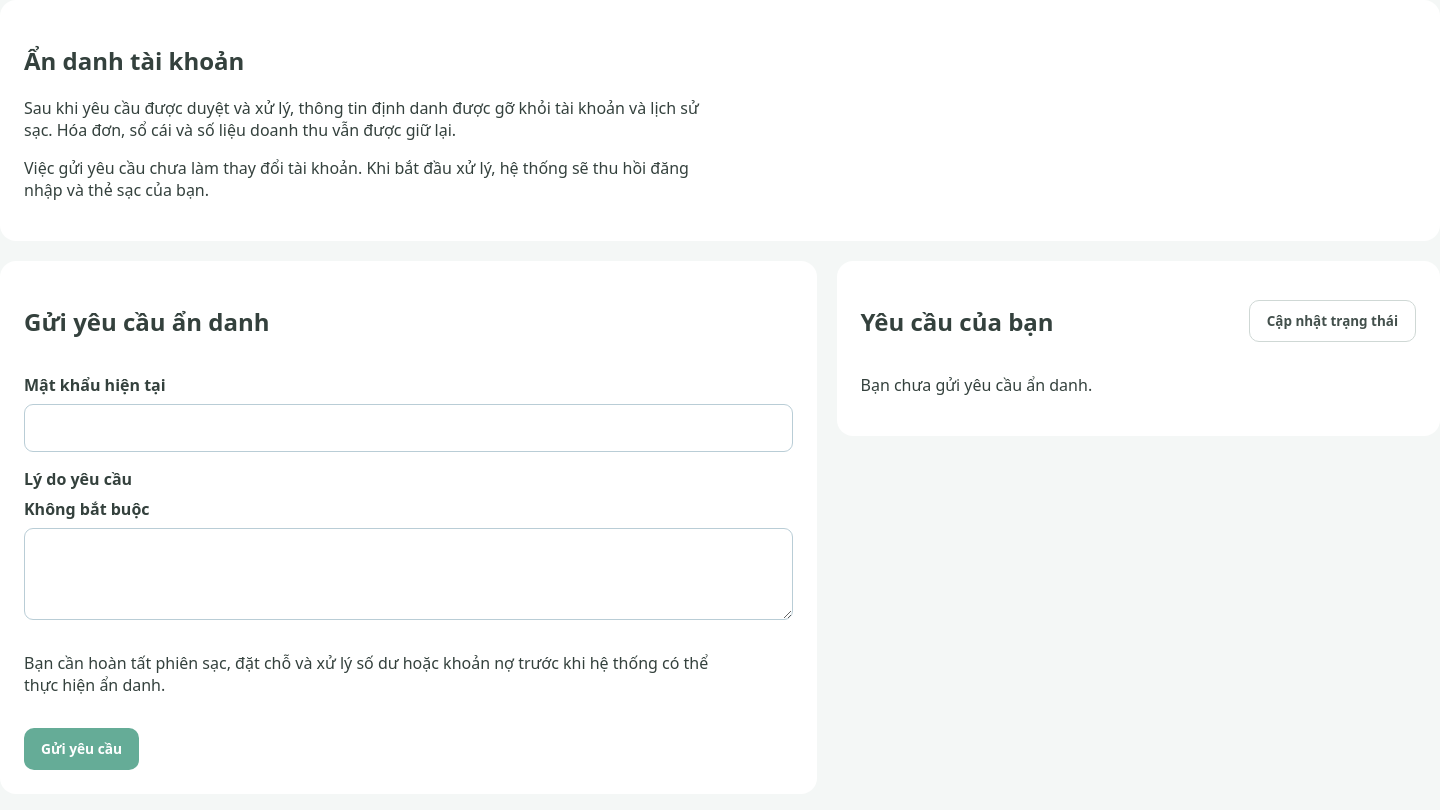
Test: submits reauthentication, shows a receipt and clears the password
Type "reauth-password" into the password field labelled "Mật khẩu hiện tại". click: (408, 428)
box: top-left (24, 404), bottom-right (792, 452)
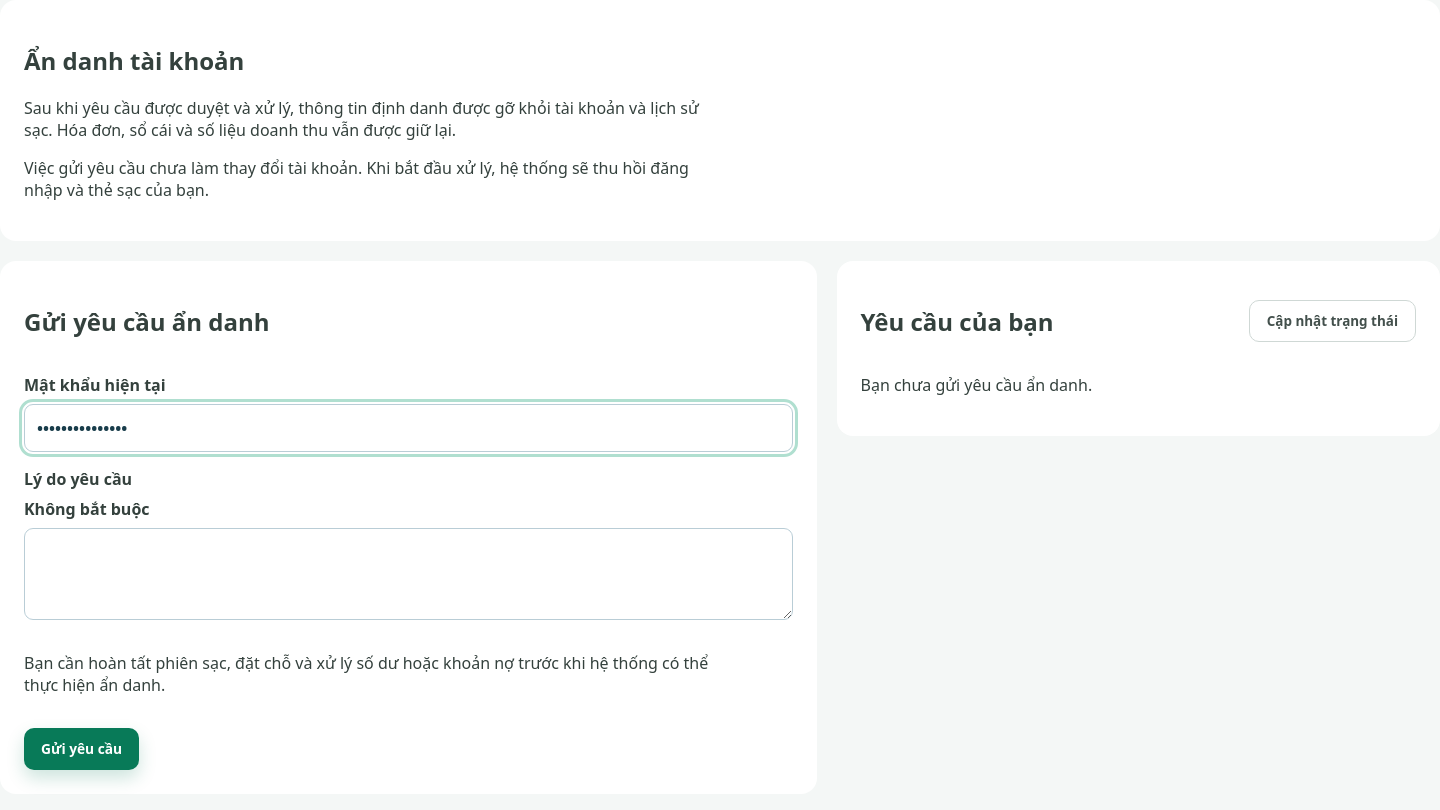
Click the button "Gửi yêu cầu". click: (82, 749)
box: top-left (24, 728), bottom-right (139, 770)
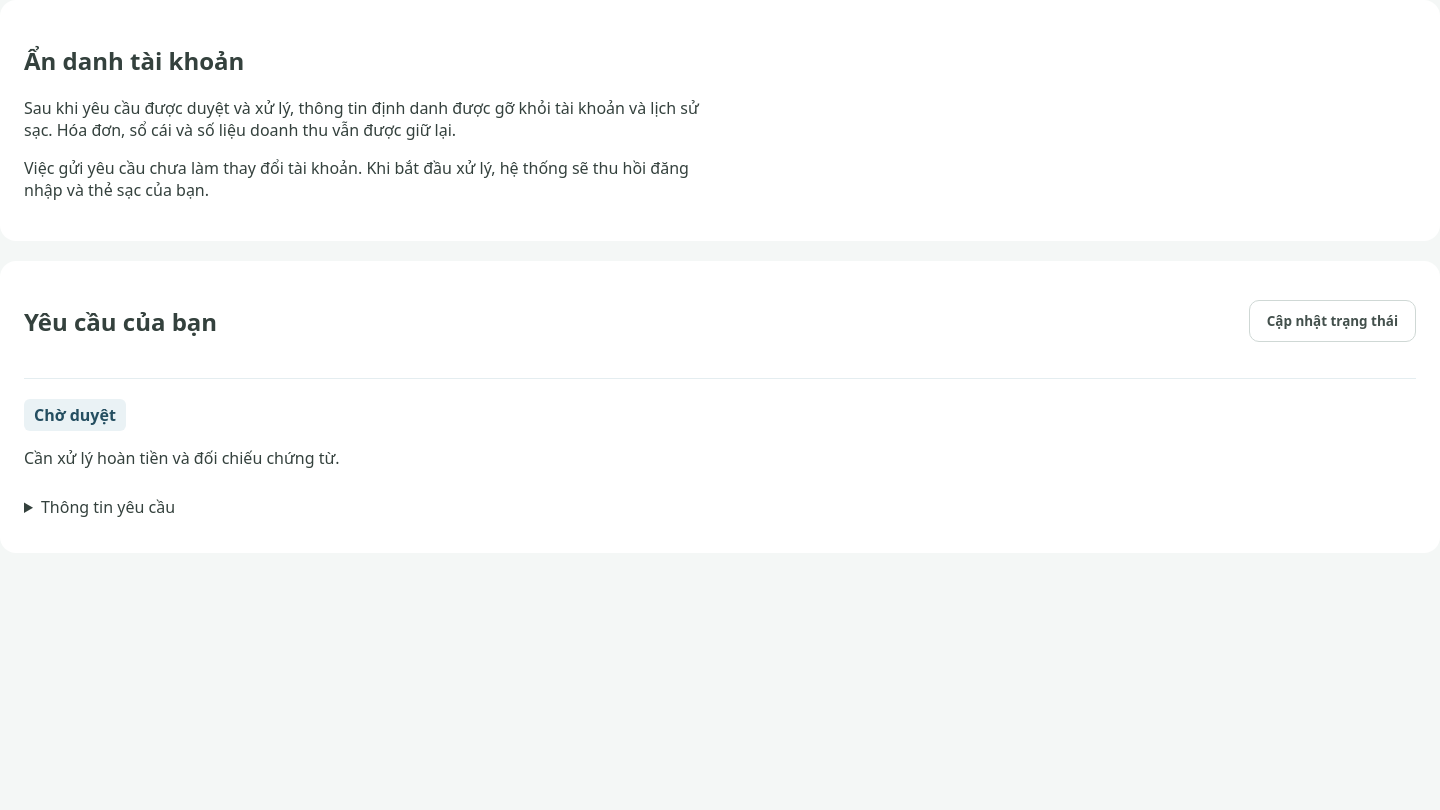
Now the text "Chờ duyệt" is shown, box top-left (24, 399), bottom-right (126, 431)
Now the text "Cần xử lý hoàn tiền và đối chiếu chứng từ." is shown, box top-left (24, 447), bottom-right (340, 469)
Now the label labelled "Mật khẩu hiện tại" is gone
